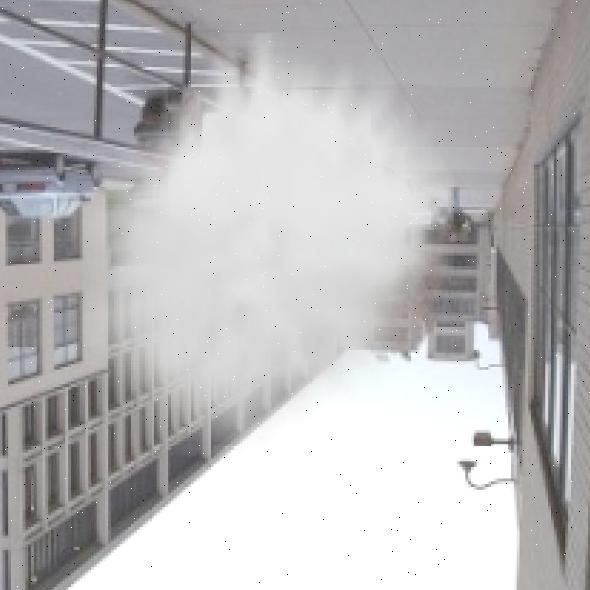smoke: (82, 32, 454, 455)
